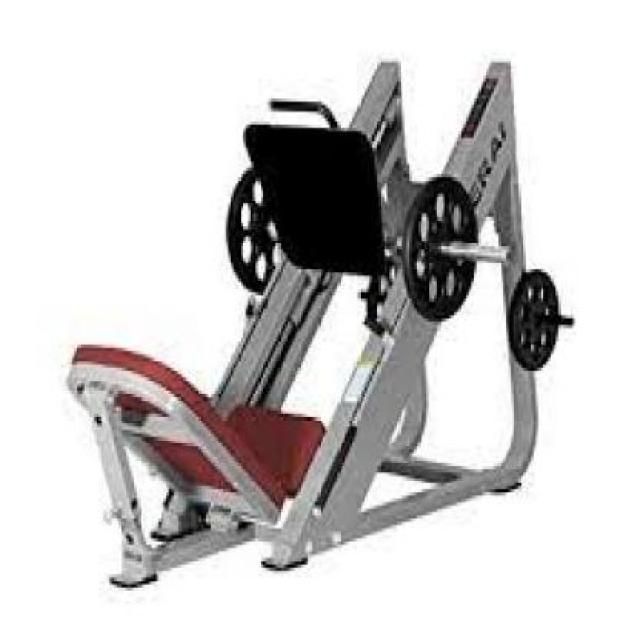leg press: (44, 32, 584, 596)
